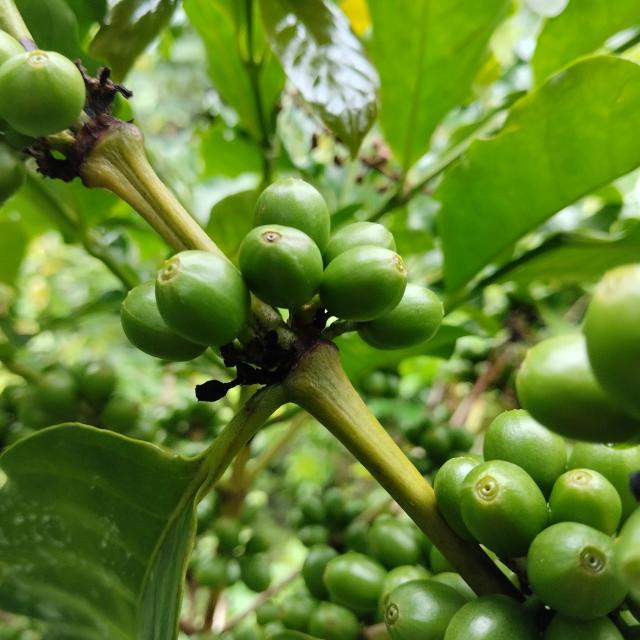green: (517, 334, 640, 443), (528, 523, 630, 621), (155, 250, 250, 346), (460, 461, 550, 559), (484, 410, 569, 500), (0, 49, 85, 137), (238, 224, 323, 309), (120, 280, 207, 362), (319, 245, 408, 321), (253, 178, 331, 252), (568, 442, 640, 522), (358, 285, 444, 351), (385, 580, 469, 640), (550, 469, 623, 537), (434, 455, 485, 544), (444, 596, 540, 640), (323, 221, 397, 266)
